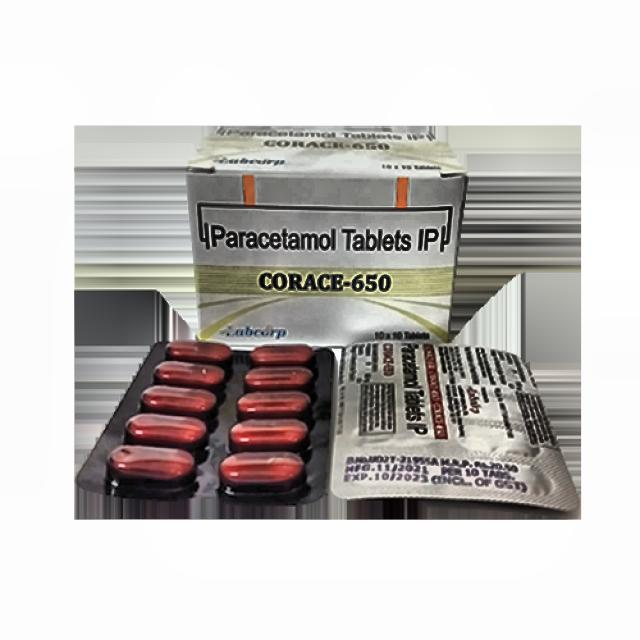Paracetamol: (196, 208, 446, 307)
